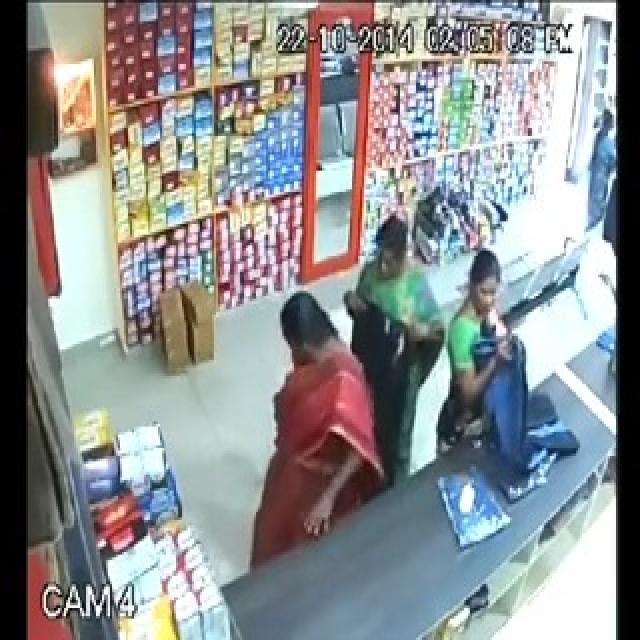Normal: (242, 279, 386, 580), (440, 230, 586, 506), (340, 205, 452, 492)
